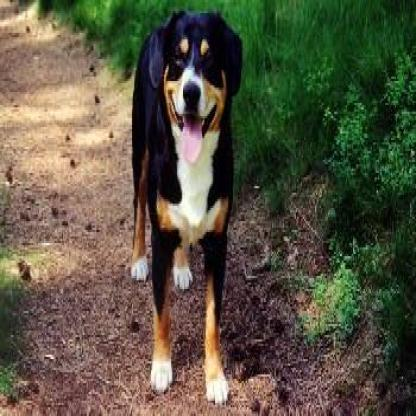EntleBucher: (126, 5, 244, 410)
